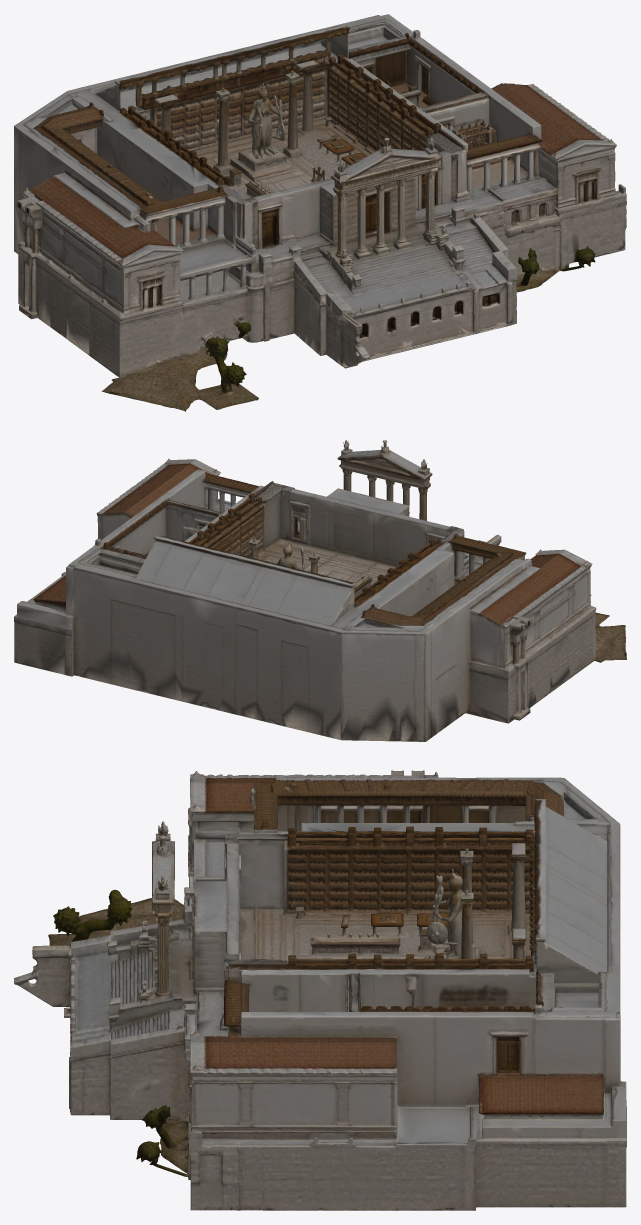
File: pergamon_library.glb
3 renders of one model, top to bottom at view 1: azimuth 30°, elevation 25°; view 2: azimuth 150°, elevation 25°; view 3: azimuth 270°, elevation 25°, orthographic. The views are drawn at different scales.
Parts seen in each view (by area): view 1: tripo_node_9f3baf5a-2904-450e-8fe4-1c8fc7b8fc20; view 2: tripo_node_9f3baf5a-2904-450e-8fe4-1c8fc7b8fc20; view 3: tripo_node_9f3baf5a-2904-450e-8fe4-1c8fc7b8fc20.
Part boxes in pixels (bbox=[...]): tripo_node_9f3baf5a-2904-450e-8fe4-1c8fc7b8fc20: bbox=[14, 14, 626, 411]; tripo_node_9f3baf5a-2904-450e-8fe4-1c8fc7b8fc20: bbox=[14, 440, 626, 741]; tripo_node_9f3baf5a-2904-450e-8fe4-1c8fc7b8fc20: bbox=[14, 770, 626, 1210].
Bounding box in the file's own units: 0.9826 × 0.328 × 0.7895.
1 material, 1 textured.
